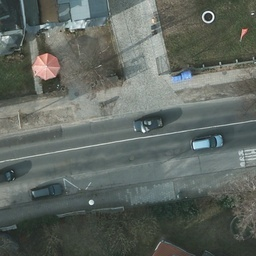car: (189, 134, 225, 150), (31, 185, 61, 199), (1, 170, 18, 179)
